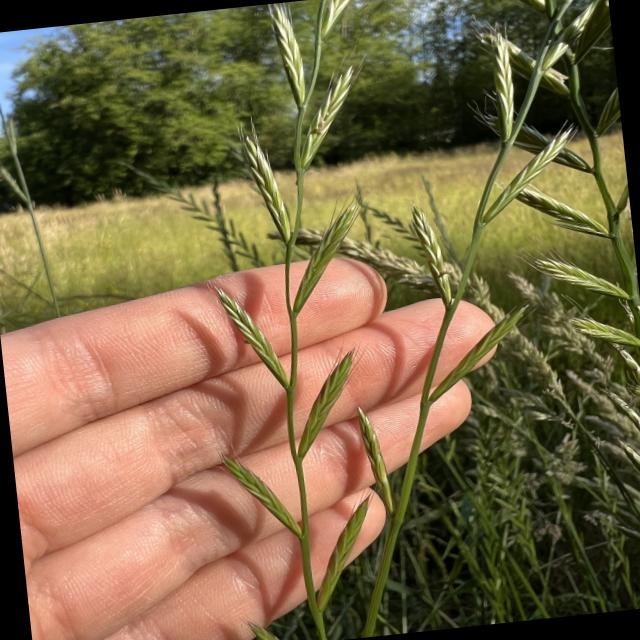Lolium: (167, 0, 443, 640), (327, 0, 640, 538), (466, 0, 640, 398)
